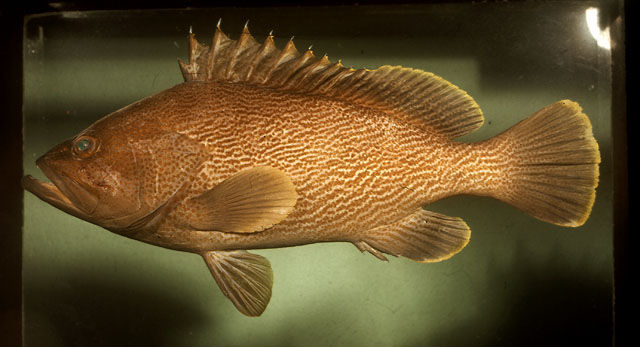fish: (20, 18, 603, 318)
